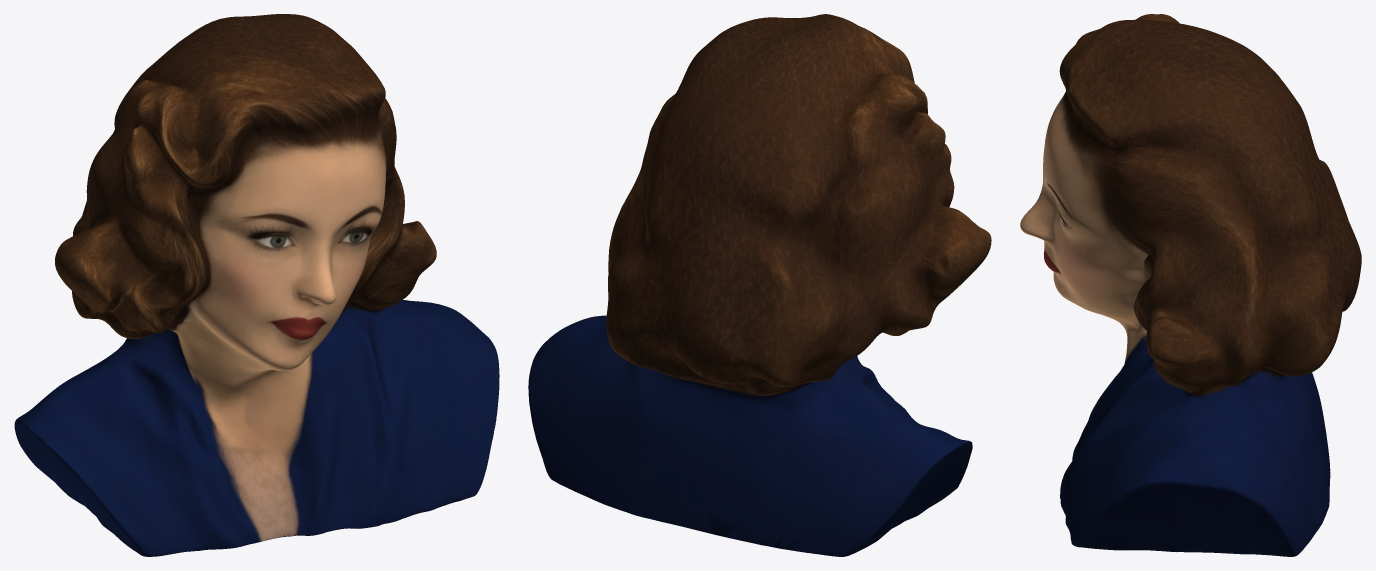
The picture shows the model from 3 angles, left to right: view 1: azimuth 30°, elevation 25°; view 2: azimuth 150°, elevation 25°; view 3: azimuth 270°, elevation 25°; orthographic projection. The views are drawn at different scales.
Size of the model in its own units: 1.85 by 1.9 by 1.34.
Materials: 1 (1 with a texture image).
